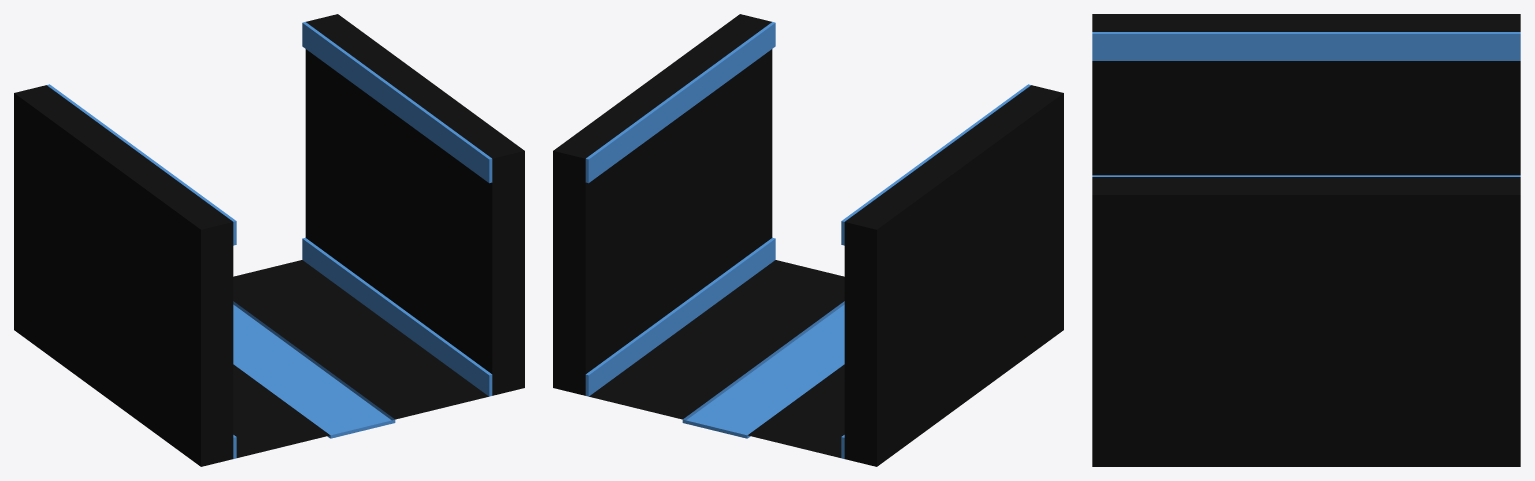
The model's file is Wall_Double.fbx.
3 views of the same model, side by side, from view 1: azimuth 30°, elevation 25°; view 2: azimuth 150°, elevation 25°; view 3: azimuth 270°, elevation 25° (orthographic). The views are drawn at different scales.
Visible parts, largest first — view 1: pPlane2; view 2: pPlane2; view 3: pPlane2.
Boxes of the visible parts, bbox=[...] form: pPlane2: bbox=[14, 14, 524, 466]; pPlane2: bbox=[553, 14, 1063, 466]; pPlane2: bbox=[1092, 14, 1520, 466].
Size of the model in its own units: 10 by 7.1 by 10.
